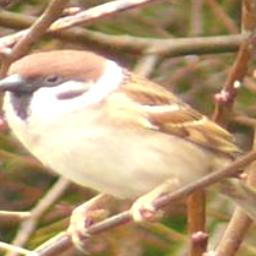Sparrow: (0, 49, 256, 254)
